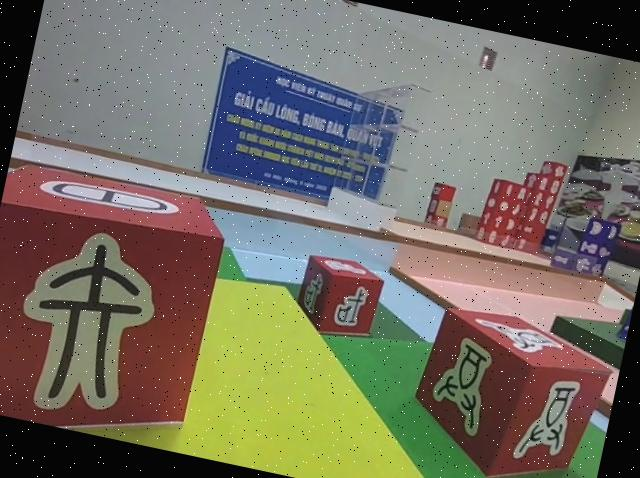R2 Fake: (0, 153, 233, 453)
R2 Real: (397, 296, 621, 478), (290, 249, 390, 346)
